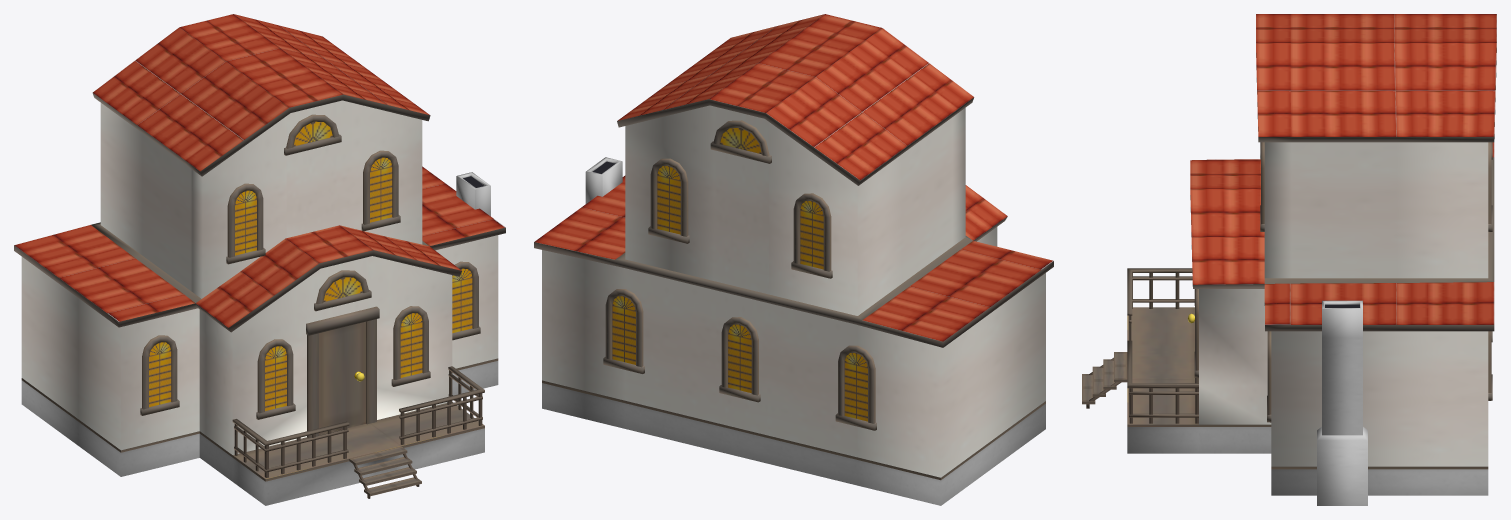
Rendered from Town Houses Variant 3 (Red).fbx.
The picture shows the model from 3 angles, left to right: view 1: azimuth 30°, elevation 25°; view 2: azimuth 150°, elevation 25°; view 3: azimuth 270°, elevation 25°; orthographic projection. The views are drawn at different scales.
Parts seen in each view (by area): view 1: Town House 3 V1; view 2: Town House 3 V1; view 3: Town House 3 V1.
Boxes of the visible parts, x1=… form: Town House 3 V1: x1=14, y1=14, x2=505, y2=505; Town House 3 V1: x1=534, y1=14, x2=1053, y2=505; Town House 3 V1: x1=1082, y1=14, x2=1496, y2=505.
Bounding box in the file's own units: 1022 × 815 × 836.
1 material, 1 textured.
